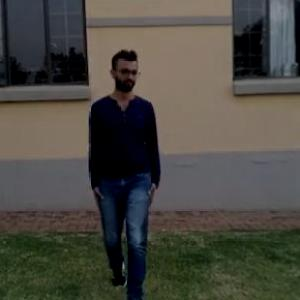follow: (80, 35, 164, 299)
